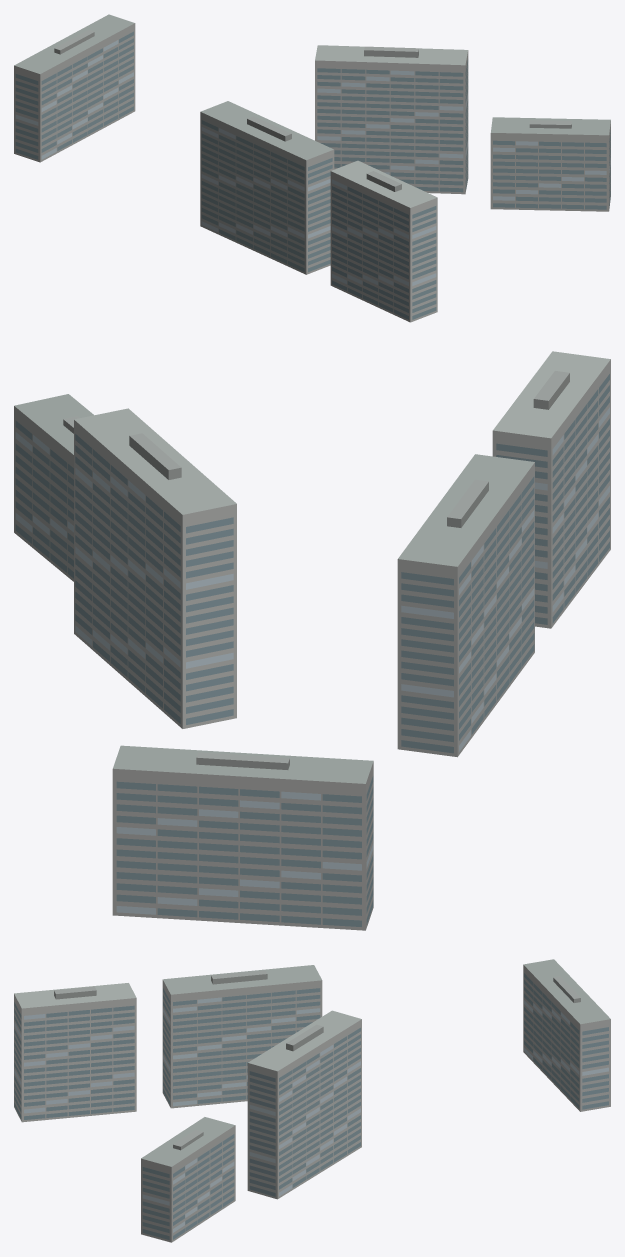
File: apt-a15101802.glb
3 views of the same model, one above another, from view 1: azimuth 30°, elevation 25°; view 2: azimuth 150°, elevation 25°; view 3: azimuth 270°, elevation 25° (orthographic). The views are drawn at different scales.
Parts seen in each view (by area): view 1: apt-a15101802; view 2: apt-a15101802; view 3: apt-a15101802.
Part boxes in pixels (box(x1,y1,x2,y2)): apt-a15101802: box(14, 14, 610, 322); apt-a15101802: box(14, 351, 610, 930); apt-a15101802: box(14, 959, 610, 1242).
Bounding box in the file's own units: 169 × 54 × 218.
